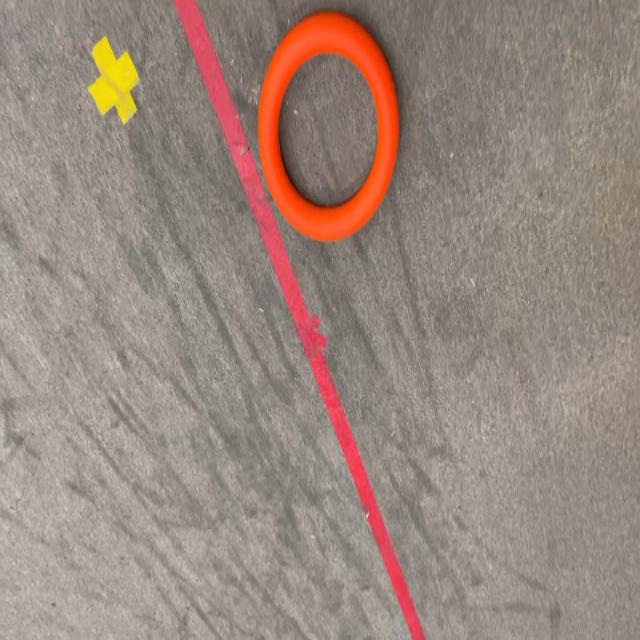note: (258, 11, 400, 242)
